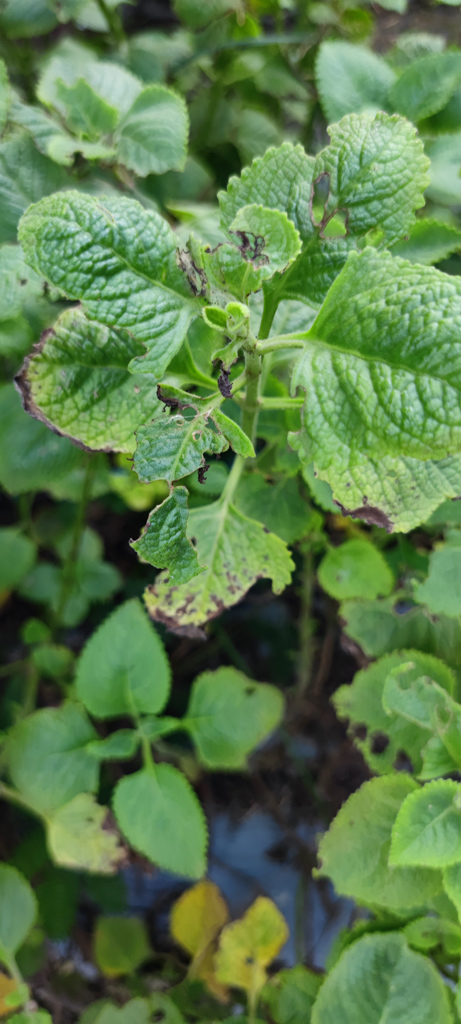Pepper yellow leaf: (160, 873, 293, 1010), (3, 966, 31, 1020)
